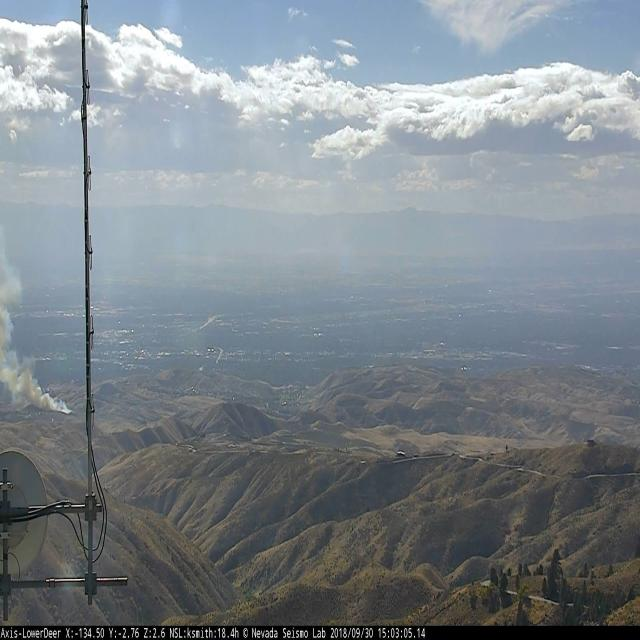smoke: (0, 240, 74, 413)
